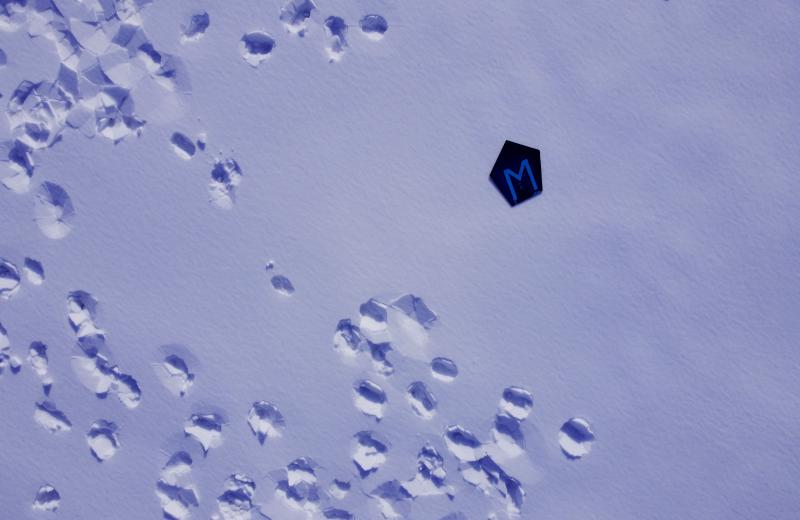Pentagon: (489, 140, 543, 209)
